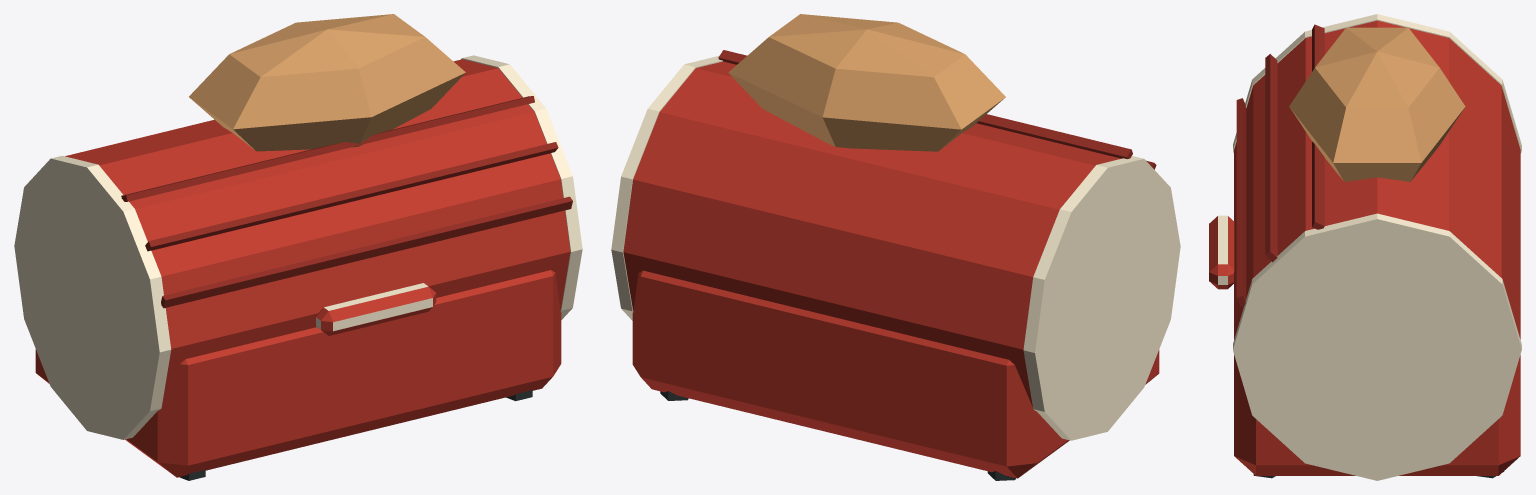
File: brotkasten.glb
3 views of the same model, side by side, from view 1: azimuth 30°, elevation 25°; view 2: azimuth 150°, elevation 25°; view 3: azimuth 270°, elevation 25° (orthographic).
Parts seen in each view (by area): view 1: brotkasten-m; view 2: brotkasten-m; view 3: brotkasten-m.
Part boxes in pixels (x1=…): brotkasten-m: x1=14, y1=14, x2=582, y2=480; brotkasten-m: x1=611, y1=14, x2=1180, y2=480; brotkasten-m: x1=1209, y1=14, x2=1521, y2=480.
Bounding box in the file's own units: 0.44 × 0.355 × 0.2835.
